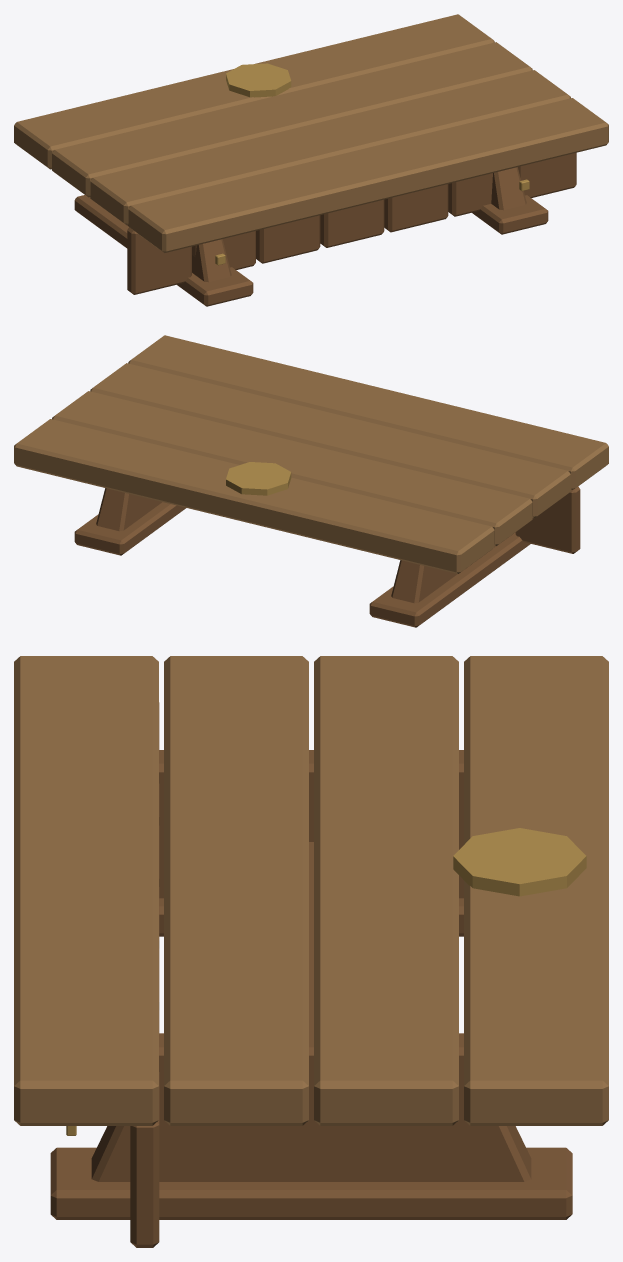
Rendered from interior-market.glb.
3 views of the same model, one above another, from view 1: azimuth 30°, elevation 25°; view 2: azimuth 150°, elevation 25°; view 3: azimuth 270°, elevation 25° (orthographic). The views are drawn at different scales.
Parts seen in each view (by area): view 1: interior-market-visual; view 2: interior-market-visual; view 3: interior-market-visual.
Boxes of the visible parts, x1,y1,x2,y2 form: interior-market-visual: (14, 14, 608, 306); interior-market-visual: (14, 335, 608, 627); interior-market-visual: (14, 656, 608, 1247).
Bounding box in the file's own units: 2.44 × 0.5325 × 1.43.
